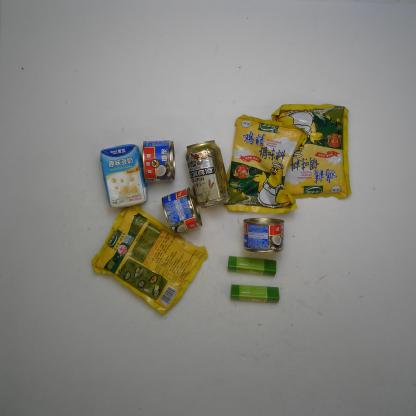Alcohol: (184, 139, 231, 209)
Canned Food: (161, 187, 203, 234), (242, 217, 286, 254), (142, 140, 176, 184)
Milk: (100, 142, 148, 209)
Seasoner: (91, 204, 208, 316), (223, 113, 309, 215), (270, 103, 352, 201)
Stationery: (227, 256, 277, 277), (230, 284, 280, 304)
